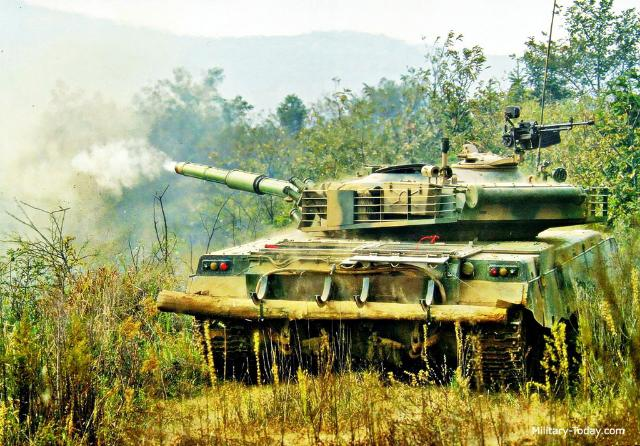tank: (184, 157, 612, 353)
